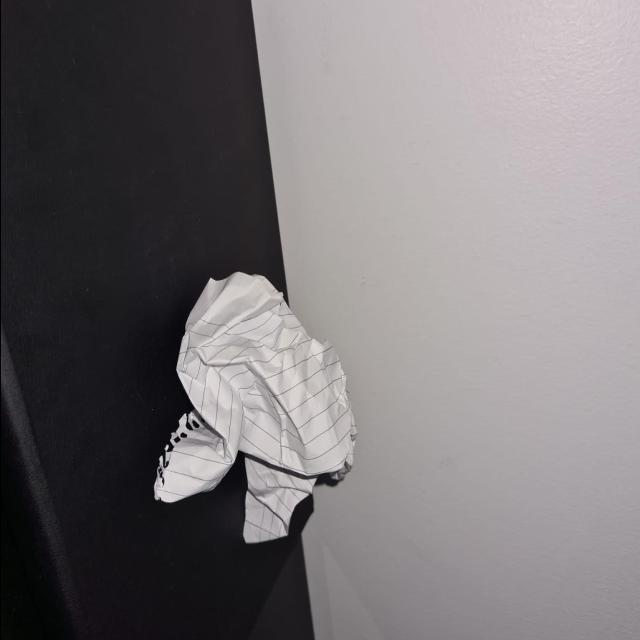kertas: (150, 260, 353, 564)
